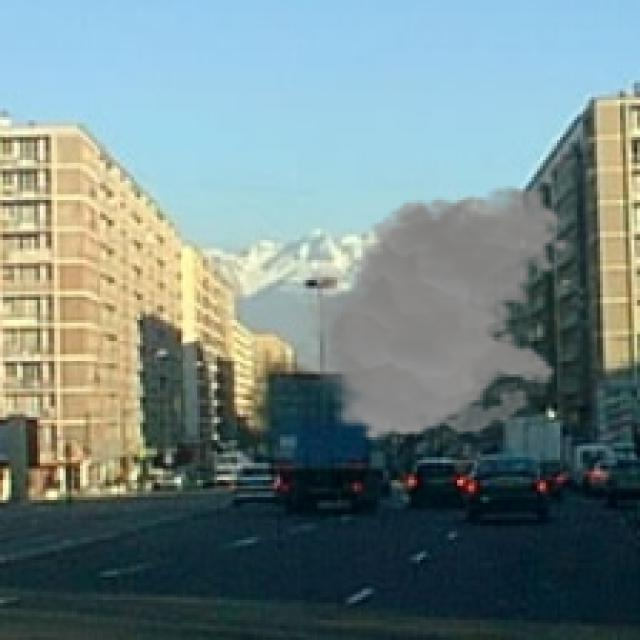Smoke: (297, 186, 572, 443)
